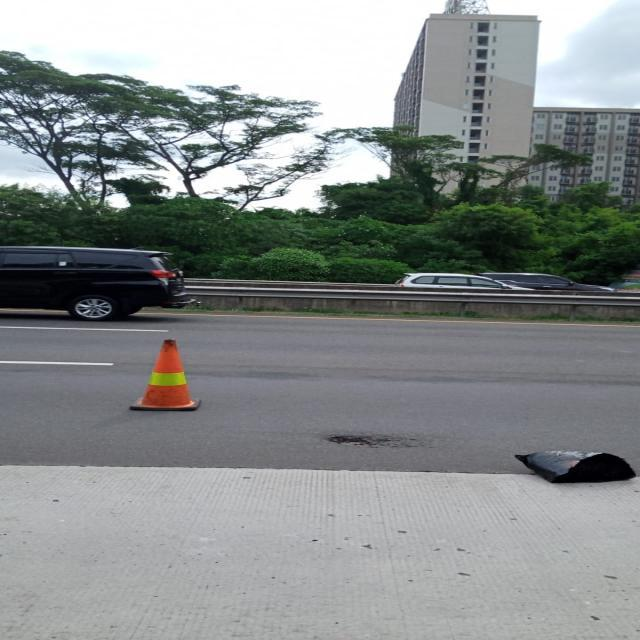Buraco: (325, 432, 393, 450)
